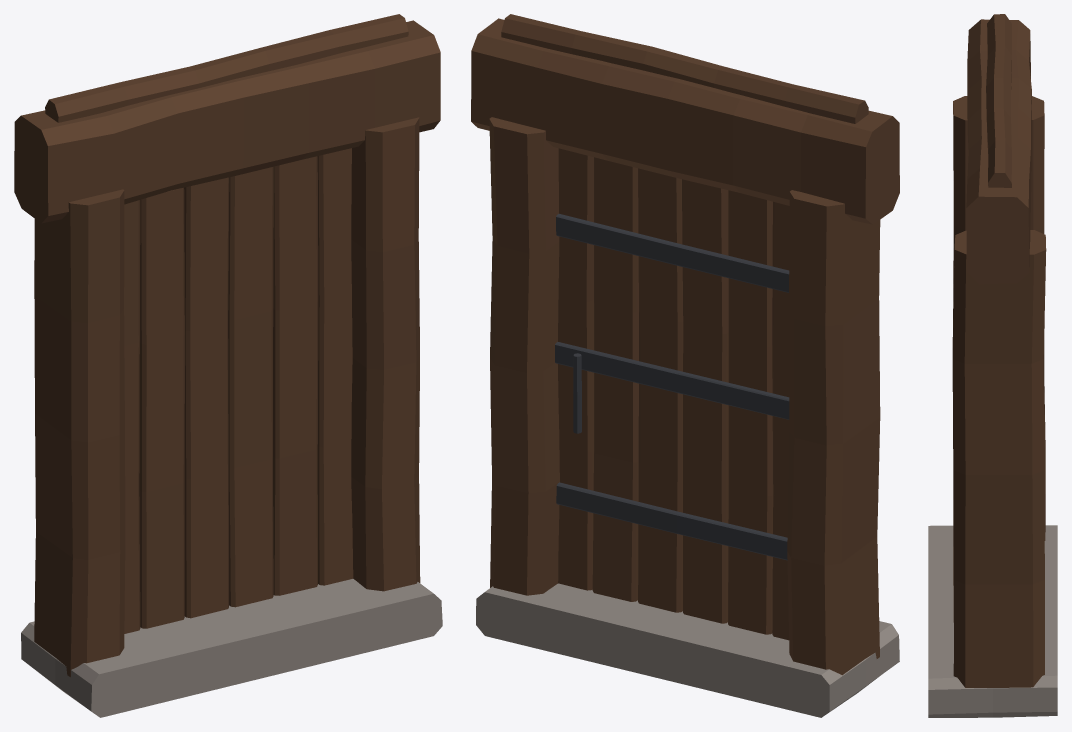
The model's file is nomad_door.fbx.
3 views of the same model, side by side, from view 1: azimuth 30°, elevation 25°; view 2: azimuth 150°, elevation 25°; view 3: azimuth 270°, elevation 25° (orthographic). The views are drawn at different scales.
Visible parts, largest first — view 1: nomad_door; view 2: nomad_door; view 3: nomad_door.
Part boxes in pixels (x1,y1,x2,y2): nomad_door: [14, 14, 442, 717]; nomad_door: [471, 14, 899, 717]; nomad_door: [928, 14, 1057, 717].
Bounding box in the file's own units: 324 × 468 × 100.
